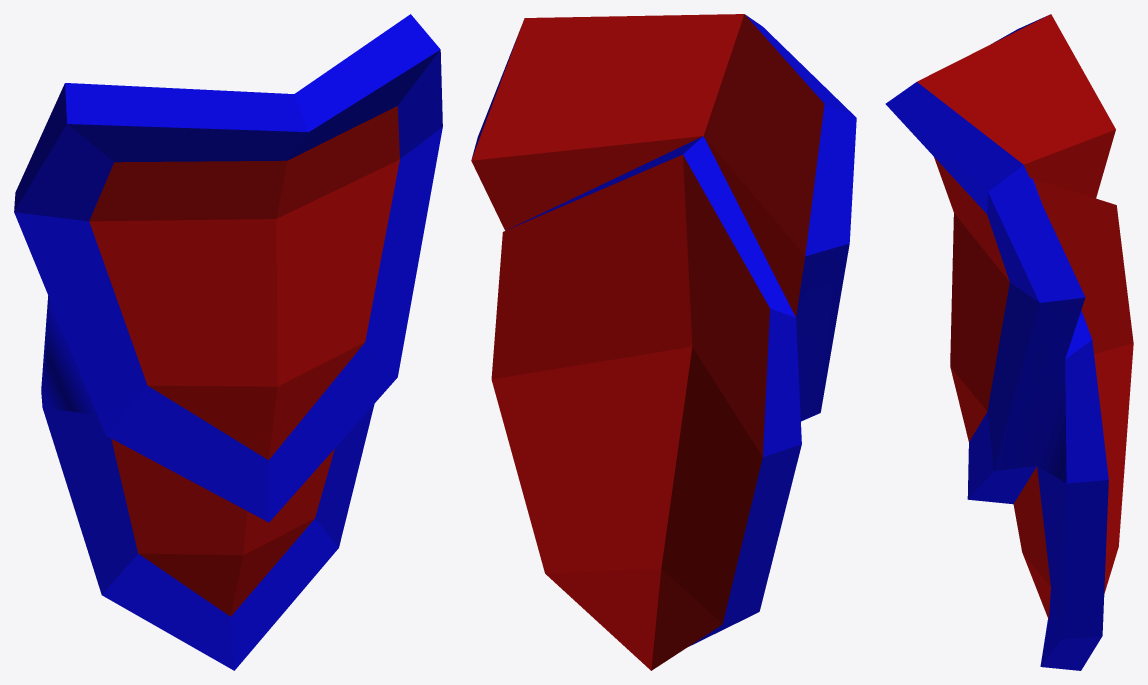
The model's file is Chr_KneeAttachRight_Static_06.fbx.
3 renders of one model, left to right at view 1: azimuth 30°, elevation 25°; view 2: azimuth 150°, elevation 25°; view 3: azimuth 270°, elevation 25°, orthographic. The views are drawn at different scales.
Parts seen in each view (by area): view 1: Chr_KneeAttachRight_06; view 2: Chr_KneeAttachRight_06; view 3: Chr_KneeAttachRight_06.
Part boxes in pixels (x1=…): Chr_KneeAttachRight_06: x1=14, y1=14, x2=442, y2=670; Chr_KneeAttachRight_06: x1=471, y1=14, x2=856, y2=670; Chr_KneeAttachRight_06: x1=885, y1=14, x2=1133, y2=670.
Size of the model in its own units: 15.83 by 23.22 by 8.94.
